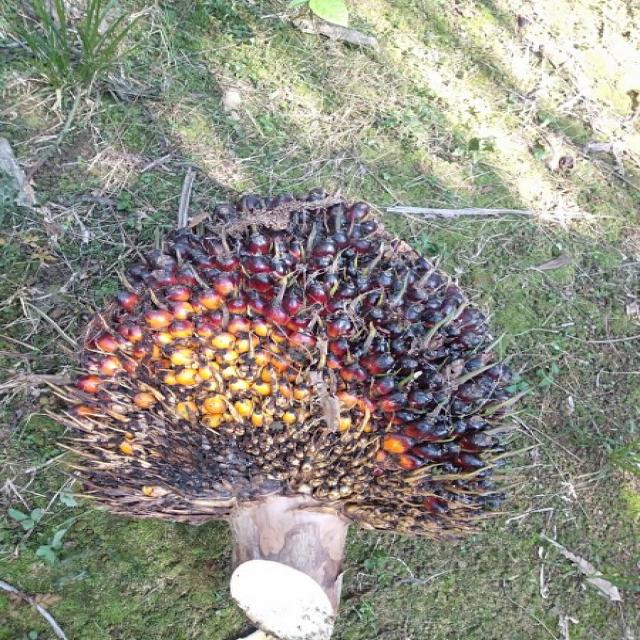fraksi 00: (42, 196, 522, 531)
